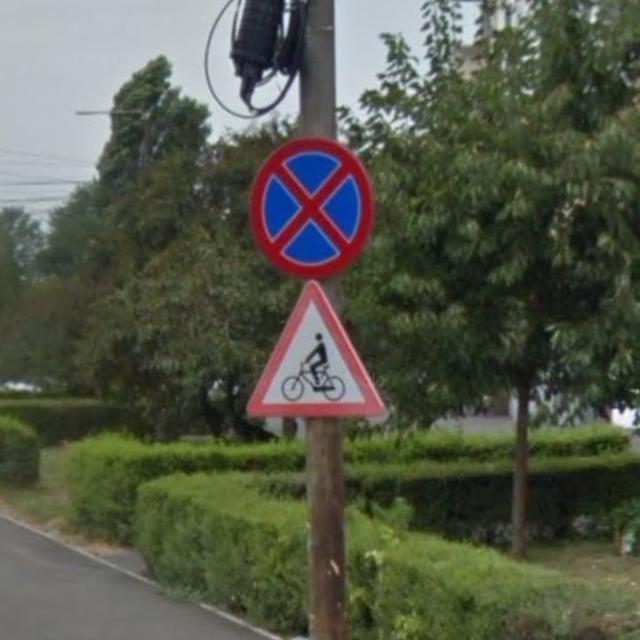forb_waiting: (250, 135, 375, 281)
